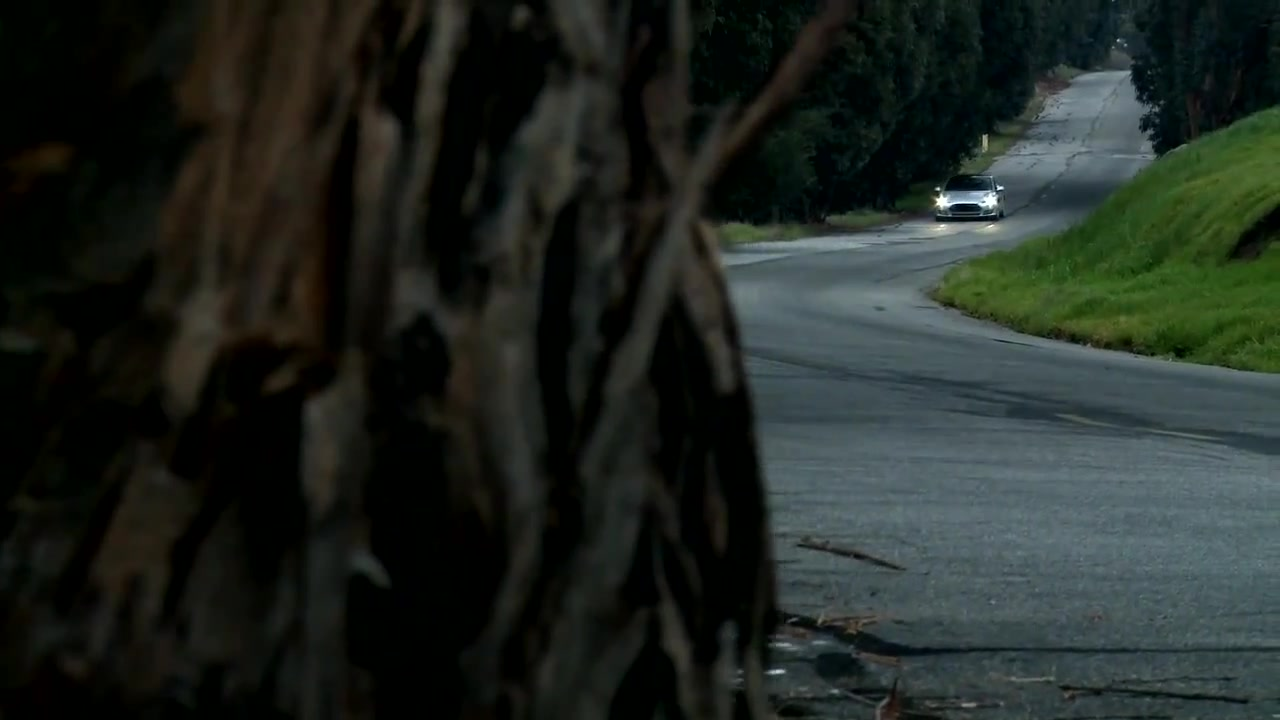car: (934, 172, 1010, 222)
